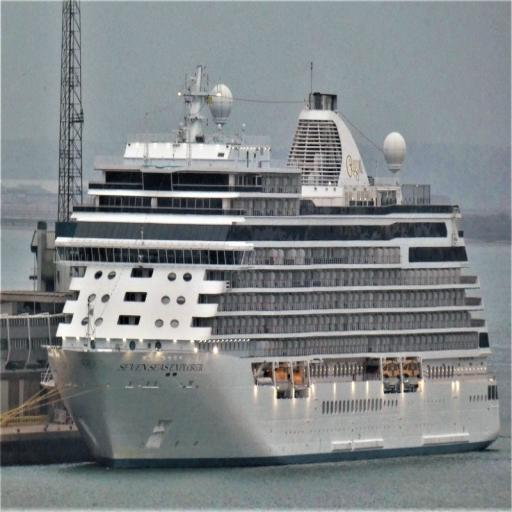cruises: (43, 57, 504, 477)
